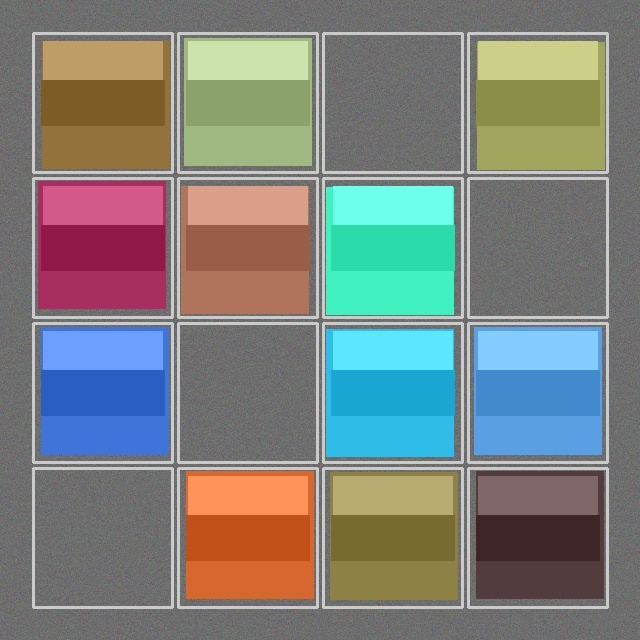space-empty: (325, 35, 460, 170), (470, 180, 605, 315), (180, 325, 315, 460), (35, 470, 170, 605)
space-occupied: (35, 35, 170, 170), (180, 35, 315, 170), (470, 35, 605, 170), (35, 180, 170, 315), (180, 180, 315, 315), (325, 180, 460, 315), (35, 325, 170, 460), (325, 325, 460, 460), (470, 325, 605, 460), (180, 470, 315, 605), (325, 470, 460, 605), (470, 470, 605, 605)
